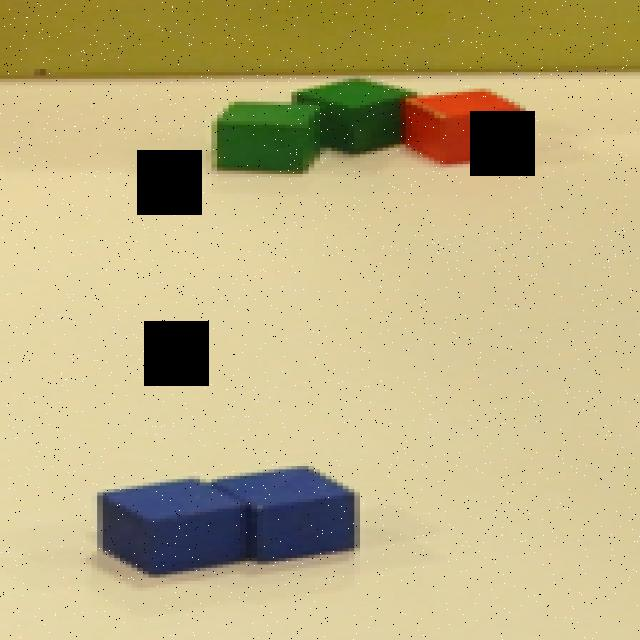bluecube: (95, 477, 249, 576), (215, 466, 355, 562)
green cube: (291, 76, 424, 159), (213, 103, 324, 171)
red cube: (401, 88, 528, 168)
